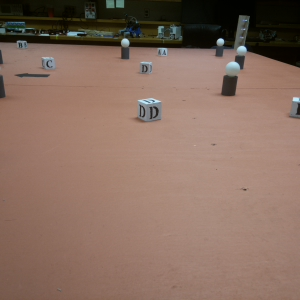blockA: (157, 46, 168, 57)
blockB: (16, 39, 27, 49)
blockC: (42, 55, 55, 72)
blockD: (136, 97, 161, 121), (139, 60, 153, 73)
corner: (235, 13, 250, 49)
obstacle: (223, 60, 239, 99), (235, 43, 247, 68), (119, 38, 130, 58), (216, 38, 224, 55)
start: (17, 70, 53, 80)
